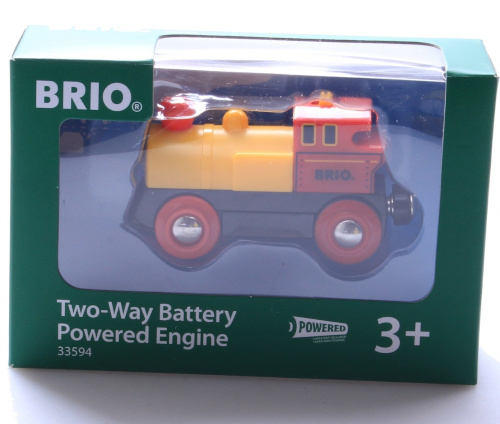brio: (125, 95, 422, 276)
